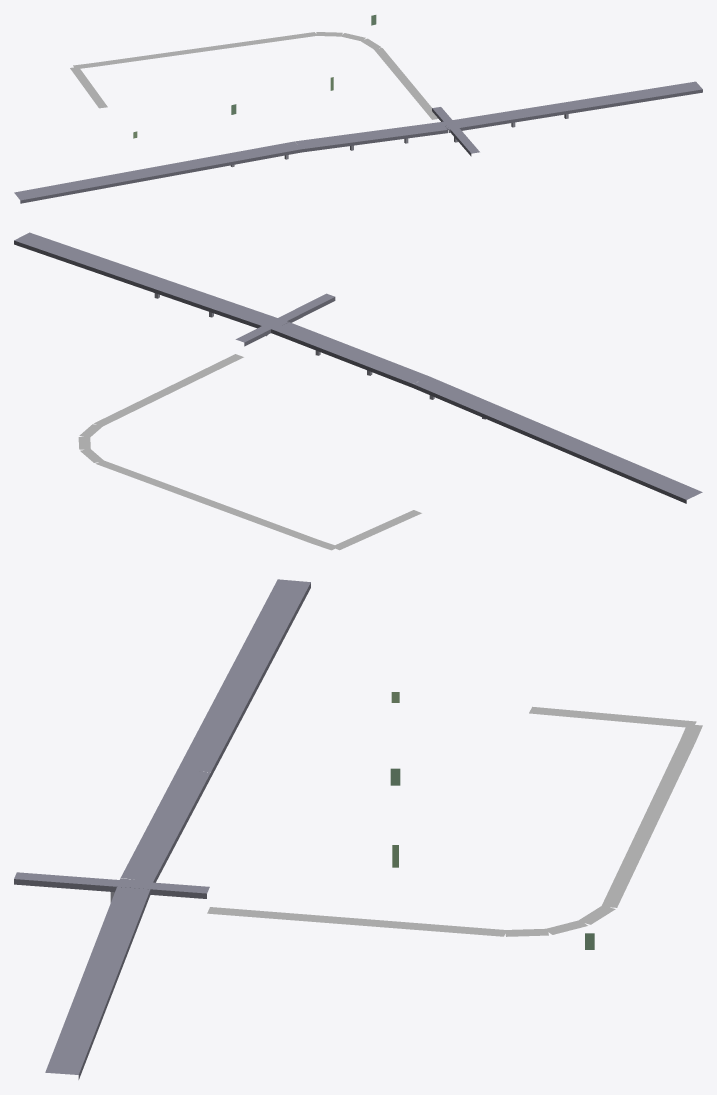
3 views of the same model, one above another, from view 1: azimuth 30°, elevation 25°; view 2: azimuth 150°, elevation 25°; view 3: azimuth 270°, elevation 25° (orthographic). The views are drawn at different scales.
Bounding box in the file's own units: 376 × 9.69 × 213.
